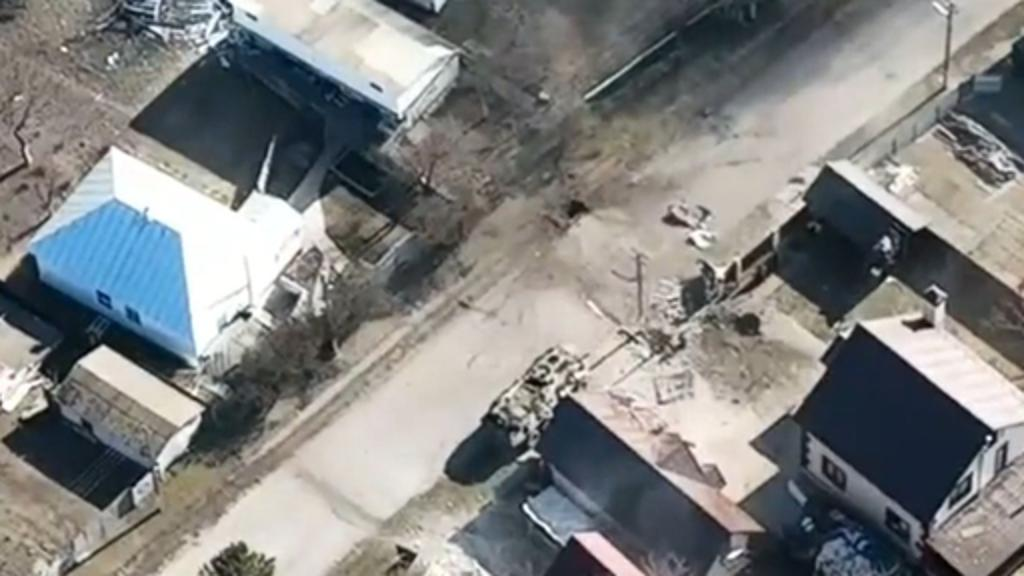APC-IFV: (472, 334, 594, 444)
